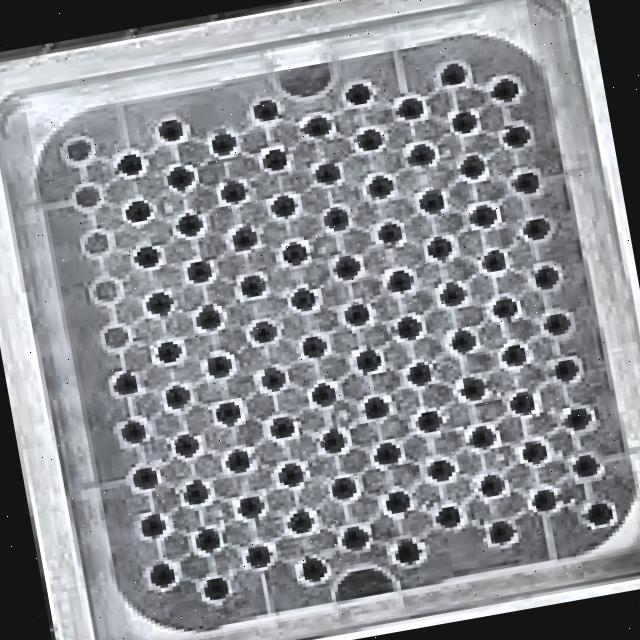vial: (439, 281, 464, 304), (406, 362, 431, 385), (588, 502, 613, 525), (470, 204, 496, 226), (184, 480, 208, 503), (282, 242, 307, 264), (451, 329, 476, 351), (368, 175, 394, 196), (149, 564, 175, 585), (322, 429, 345, 452), (461, 155, 485, 177), (240, 274, 264, 296), (147, 291, 171, 313), (197, 306, 221, 328), (311, 383, 335, 405), (460, 377, 484, 399), (363, 396, 387, 418), (174, 434, 198, 456), (226, 449, 250, 471), (302, 558, 326, 580), (345, 83, 370, 104), (524, 218, 549, 239), (125, 200, 150, 221), (501, 344, 526, 365), (251, 321, 276, 342), (260, 368, 285, 389), (216, 402, 241, 423), (385, 491, 410, 512), (397, 97, 423, 117), (441, 63, 465, 84), (452, 111, 476, 132), (253, 99, 277, 120), (168, 167, 192, 188), (271, 195, 295, 216), (324, 208, 348, 229), (302, 336, 326, 357), (207, 355, 231, 376), (113, 372, 137, 393), (121, 421, 145, 442), (132, 467, 156, 488), (510, 392, 534, 413), (332, 477, 356, 498), (430, 459, 454, 480), (436, 506, 460, 527), (493, 79, 518, 99), (408, 144, 433, 164), (427, 238, 452, 258), (356, 350, 381, 370), (522, 442, 547, 462), (279, 463, 301, 485), (289, 511, 311, 533), (516, 172, 539, 193), (358, 129, 381, 150), (159, 119, 182, 140), (178, 214, 201, 235), (483, 250, 506, 271), (546, 313, 569, 334), (291, 288, 314, 309), (397, 317, 420, 338), (157, 341, 180, 362), (166, 386, 189, 407), (417, 410, 440, 431), (141, 514, 164, 535), (196, 529, 219, 550), (343, 527, 366, 548), (221, 182, 245, 202), (335, 257, 359, 277), (232, 227, 256, 247), (187, 261, 211, 281), (270, 417, 294, 437), (492, 298, 517, 317), (389, 270, 411, 291), (264, 149, 287, 169), (119, 153, 142, 173), (535, 267, 558, 287), (135, 246, 158, 266), (345, 304, 368, 324), (555, 359, 578, 379), (567, 408, 590, 428), (471, 426, 494, 446), (376, 443, 399, 463), (239, 496, 262, 516), (419, 192, 443, 211), (304, 117, 329, 135), (491, 521, 512, 542), (206, 578, 227, 599), (575, 455, 597, 475), (480, 475, 502, 495), (248, 546, 270, 566), (534, 490, 556, 510), (316, 163, 339, 182), (505, 127, 529, 145), (397, 542, 418, 562), (212, 134, 234, 153), (379, 223, 401, 242)
